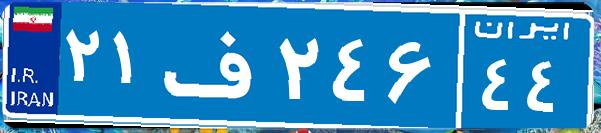1: (110, 28, 158, 105)
2: (273, 28, 330, 110), (57, 26, 110, 107)
4: (330, 28, 385, 110), (475, 38, 525, 113), (525, 38, 570, 115)
6: (385, 28, 445, 110)
ف: (158, 15, 273, 115)
